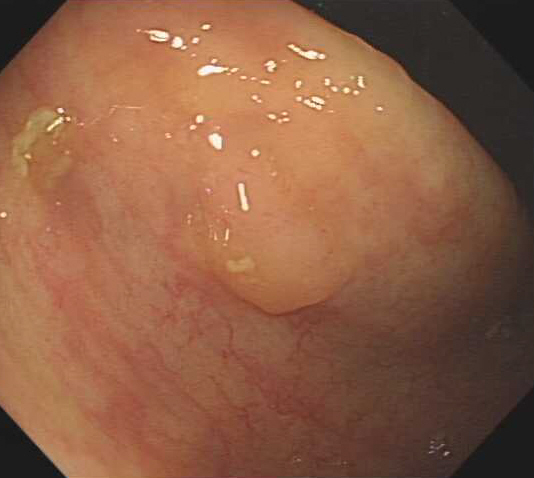others: (194, 193, 342, 319)
